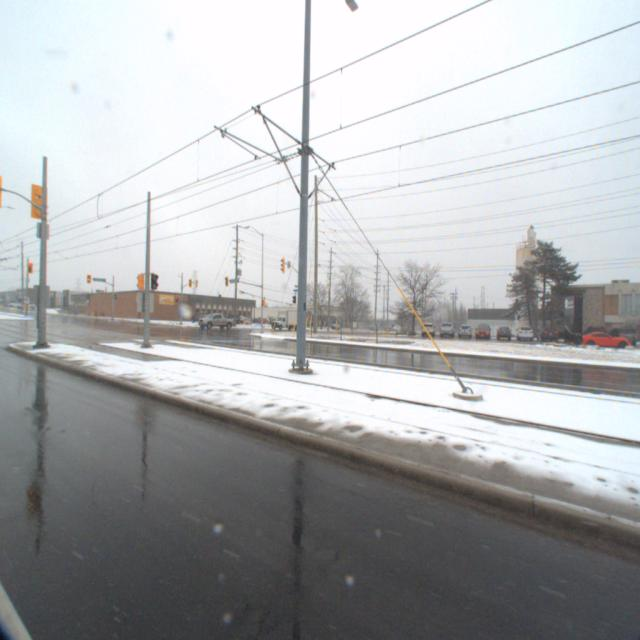Car: (570, 331, 632, 351)
Truck: (267, 312, 304, 333), (194, 316, 234, 332)
